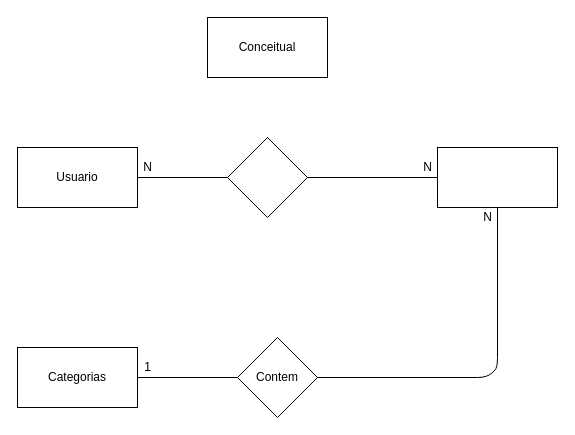
Image size: 575x435. Some labels were removed from this diagram. Here are the shapes that lost their labels. From the top down, the box of each, then its label:
(226, 136, 308, 218): Participa
(436, 146, 558, 208): Eventos
